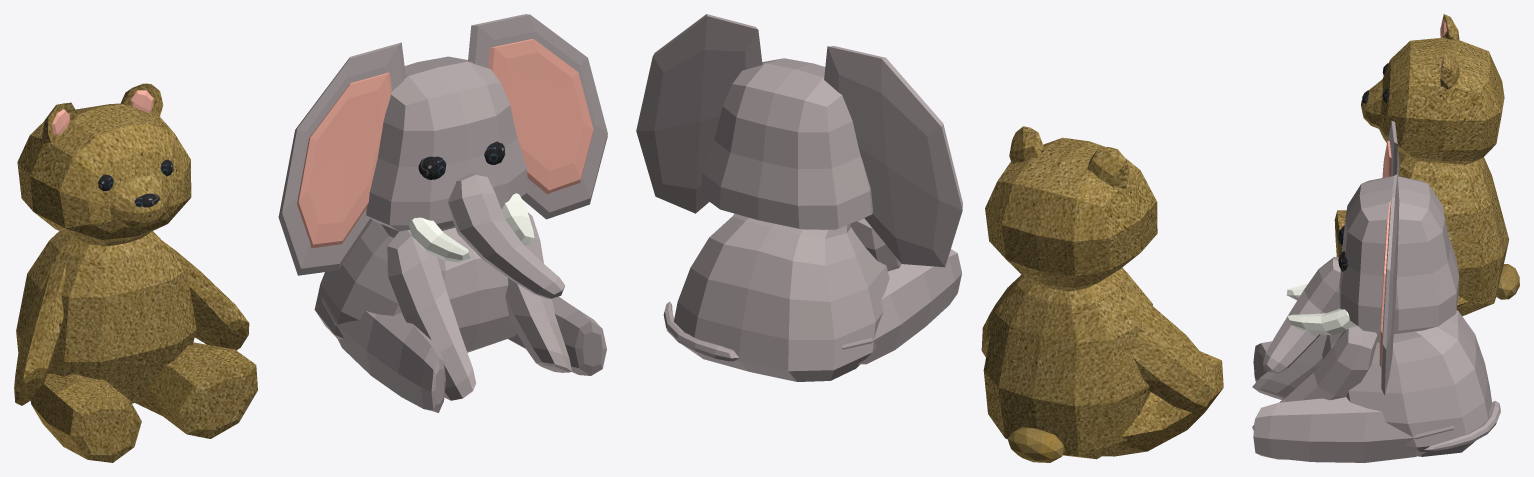
Rendered from plush.glb.
The picture shows the model from 3 angles, left to right: view 1: azimuth 30°, elevation 25°; view 2: azimuth 150°, elevation 25°; view 3: azimuth 270°, elevation 25°; orthographic projection. The views are drawn at different scales.
Visible parts, largest first — view 1: Cube.004, Cube.002; view 2: Cube.004, Cube.002; view 3: Cube.004, Cube.002.
Boxes of the visible parts, x1=… form: Cube.004: x1=278, y1=14, x2=607, y2=412; Cube.002: x1=14, y1=83, x2=257, y2=462; Cube.004: x1=636, y1=14, x2=962, y2=381; Cube.002: x1=981, y1=126, x2=1223, y2=462; Cube.004: x1=1252, y1=121, x2=1500, y2=462; Cube.002: x1=1334, y1=14, x2=1519, y2=316.
Bounding box in the file's own units: 0.9702 × 0.5089 × 0.4396.
5 materials, 2 textured.
